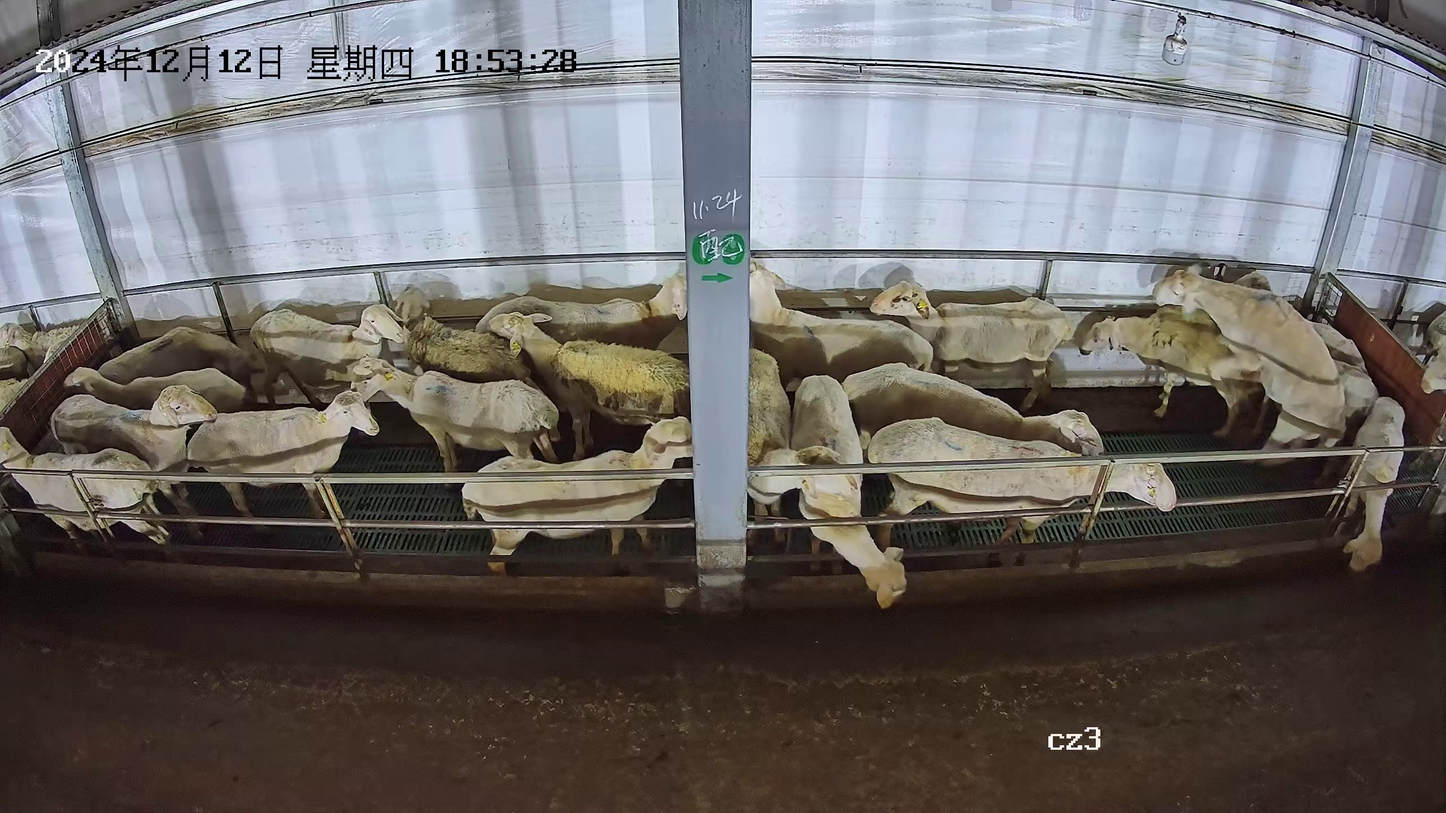Smounting: (1074, 266, 1348, 467)
mounted: (1078, 301, 1274, 441)
